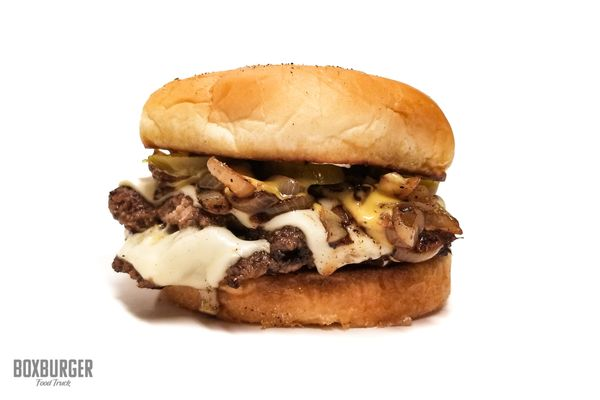soup: (107, 62, 466, 330)
